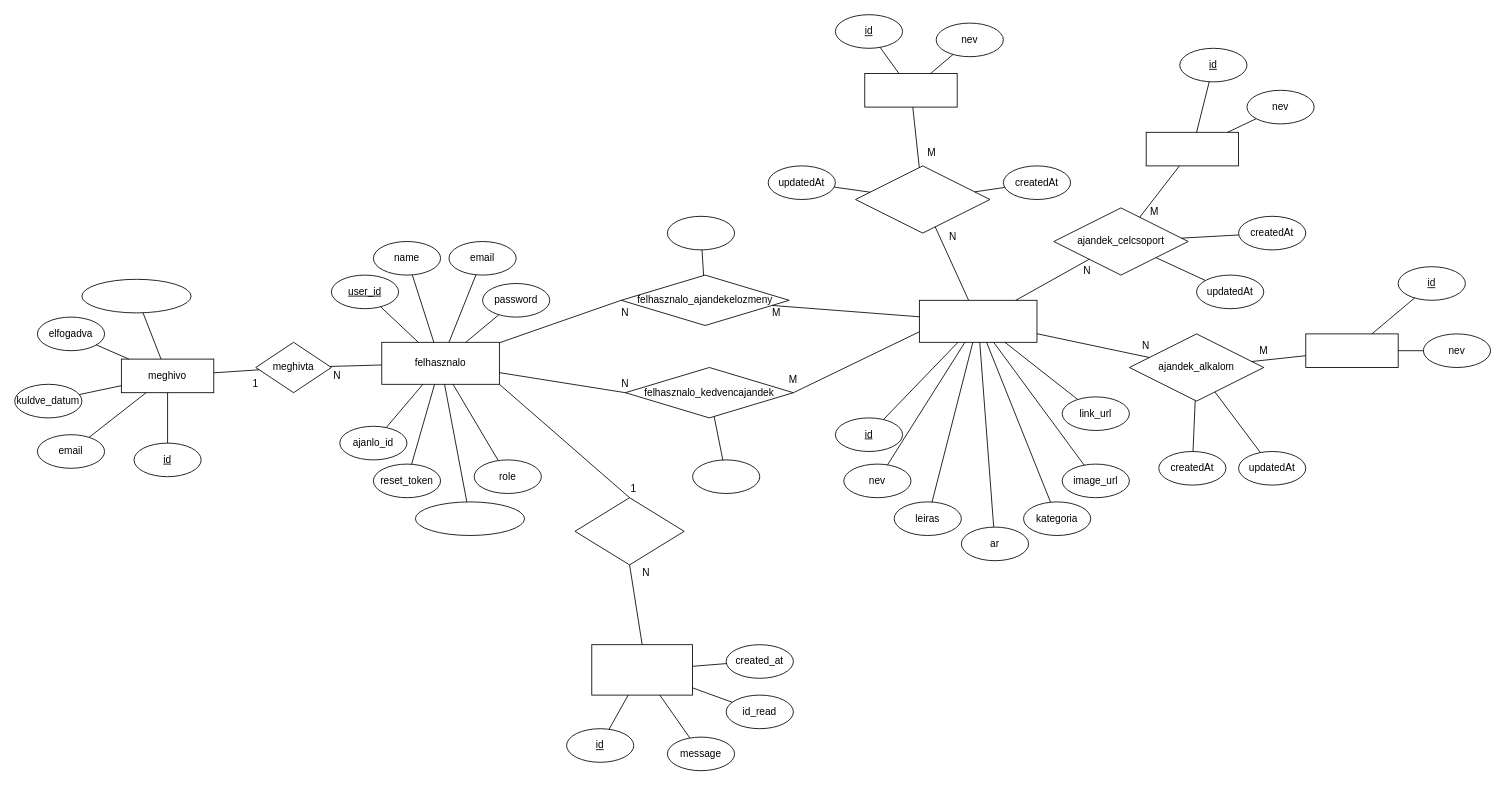
Some shapes in this 1505 by 785 pixel diagram are drawn without their labels. The centre of each missing label's shape, as x and y in pixels:
"ajandek" belongs at pixel 978 320.
"ajandek_stilus" belongs at pixel 922 199.
"alkalom" belongs at pixel 1351 350.
"celcsoport" belongs at pixel 1192 148.
"elfogadva_datum" belongs at pixel 136 295.
"keresesi_ido" belongs at pixel 701 232.
"men tve" belongs at pixel 726 476.
"reset_token_expires" belongs at pixel 470 518.
"stilusok" belongs at pixel 910 90.
"uzenet" belongs at pixel 642 669.
"uzenet_kuldes" belongs at pixel 629 531.
